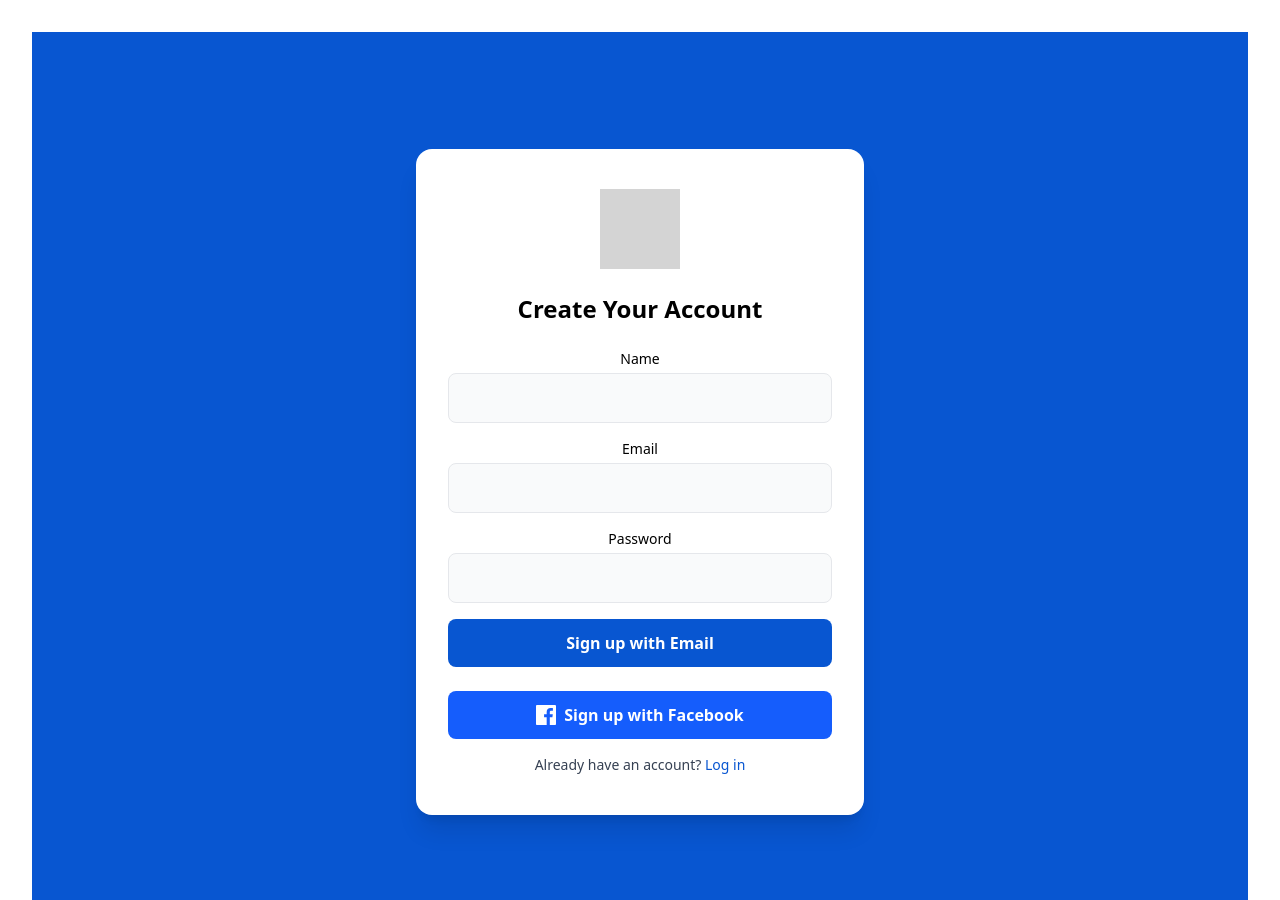
Test: Register › Form Validation › shows validation error if fields are empty
This screenshot has width=1280, height=900.
Click the button "Sign up with Email": (640, 643) [448,619,832,667]
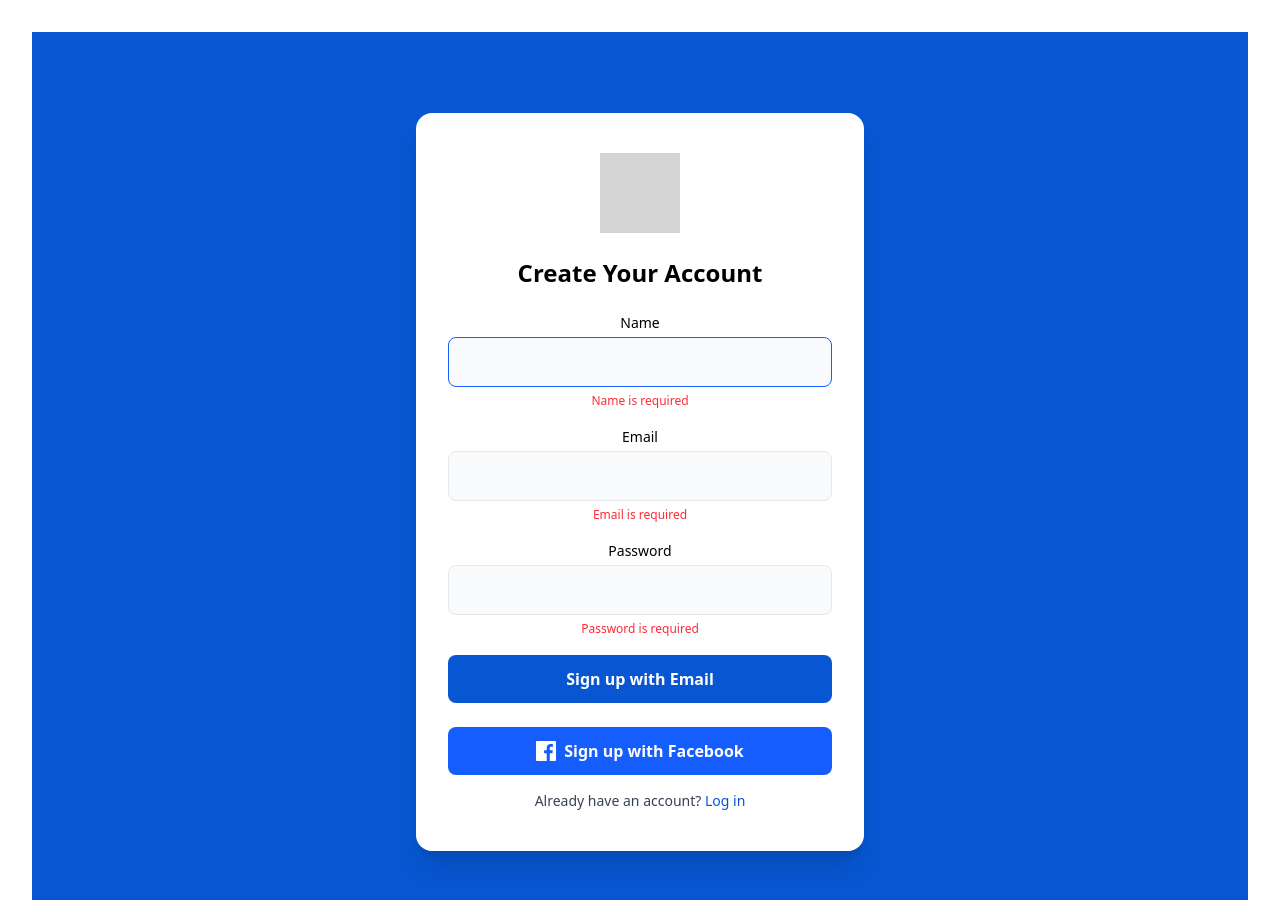
Result: the text "Name is required" is shown at [591,392,689,409]
Result: the text "Email is required" is shown at [593,506,687,523]
Result: the text "Password is required" is shown at [581,620,699,637]
